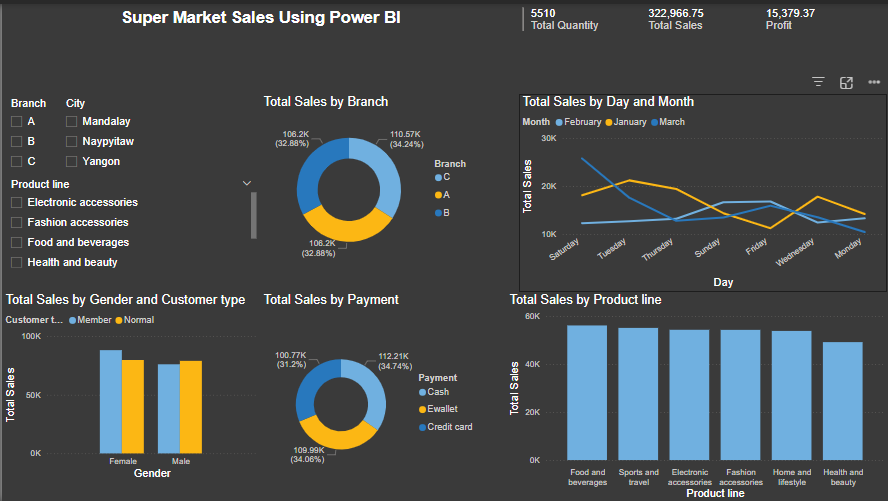

This screenshot's page, from the dashboard's own definition file:
{"tool":"powerbi","page":{"name":"Page 1","canvas":[1280,720],"ordinal":0},"visuals":[{"type":"lineChart","fields":{"Y":["supermarket_sales.Total Sales"],"Category":["supermarket_sales.Day"],"Series":["supermarket_sales.Month"]},"box":[321.7,143.3,531.7,256.7],"z":0},{"type":"columnChart","fields":{"Category":["supermarket_sales.Product line"],"Y":["supermarket_sales.Total Sales"]},"box":[588.3,416.7,551.7,303.3],"z":1000},{"type":"donutChart","fields":{"Category":["supermarket_sales.Payment"],"Y":["supermarket_sales.Total Sales"]},"box":[0,416.7,321.7,303.3],"z":2000},{"type":"clusteredColumnChart","fields":{"Y":["supermarket_sales.Total Sales"],"Category":["supermarket_sales.Gender"],"Series":["supermarket_sales.Customer type"]},"box":[321.7,415,311.7,305],"z":3000},{"type":"donutChart","fields":{"Category":["supermarket_sales.Branch"],"Y":["supermarket_sales.Total Sales"]},"box":[0,143.3,321.7,256.7],"z":4000},{"type":"textbox","box":[0,0,421.7,115],"z":5000},{"type":"card","fields":{"Values":["supermarket_sales.Total Sales"]},"box":[421.7,0,298.3,115],"z":6000},{"type":"card","fields":{"Values":["supermarket_sales.Profit"]},"box":[720,0,230,115],"z":7000},{"type":"slicer","fields":{"Values":["supermarket_sales.Product line","supermarket_sales.Day"]},"box":[865,198.3,255,218.3],"z":7002},{"type":"card","fields":{"Values":["supermarket_sales.Total Quantity"]},"box":[950,0,206.7,115],"z":7003},{"type":"slicer","fields":{"Values":["supermarket_sales.Branch","supermarket_sales.City"]},"box":[1130,198.3,150,201.7],"z":7004}]}

Visuals, with their boxes in screenshot pixels (x1, y1, x2, y2), scaled from the page's 1280x720 canvas onto the 888x501 screenshot:
lineChart - supermarket_sales.Total Sales x supermarket_sales.Day: bbox(223, 100, 592, 278)
columnChart - supermarket_sales.Product line x supermarket_sales.Total Sales: bbox(408, 290, 791, 500)
donutChart - supermarket_sales.Payment x supermarket_sales.Total Sales: bbox(0, 290, 223, 500)
clusteredColumnChart - supermarket_sales.Total Sales x supermarket_sales.Gender: bbox(223, 289, 439, 500)
donutChart - supermarket_sales.Branch x supermarket_sales.Total Sales: bbox(0, 100, 223, 278)
textbox: bbox(0, 0, 293, 80)
card - supermarket_sales.Total Sales: bbox(293, 0, 500, 80)
card - supermarket_sales.Profit: bbox(500, 0, 659, 80)
slicer - supermarket_sales.Product line x supermarket_sales.Day: bbox(600, 138, 777, 290)
card - supermarket_sales.Total Quantity: bbox(659, 0, 802, 80)
slicer - supermarket_sales.Branch x supermarket_sales.City: bbox(784, 138, 887, 278)
